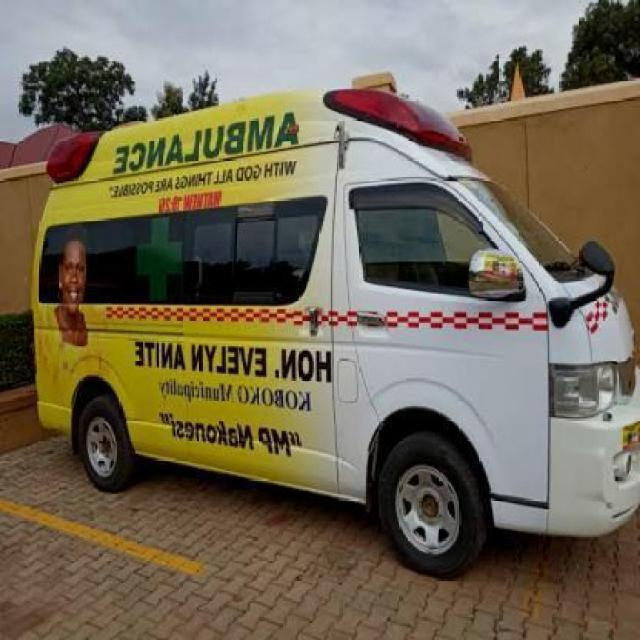emergency: (27, 70, 639, 578)
